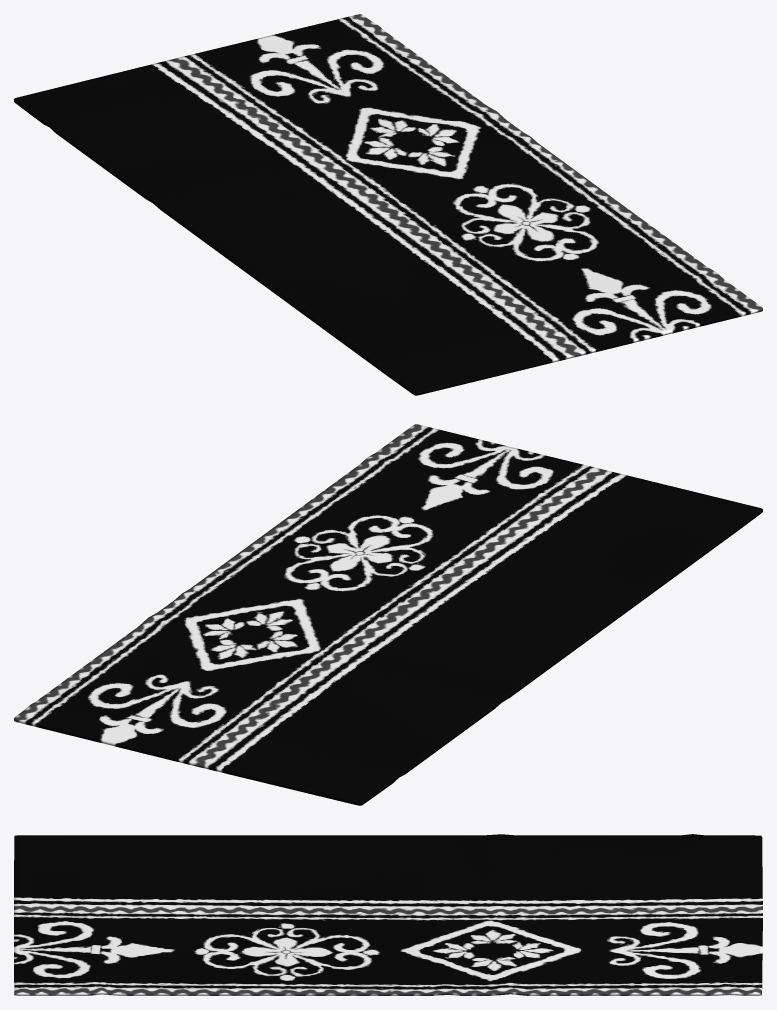
File: SM_Carpet_A.fbx
3 renders of one model, top to bottom at view 1: azimuth 30°, elevation 25°; view 2: azimuth 150°, elevation 25°; view 3: azimuth 270°, elevation 25°, orthographic. The views are drawn at different scales.
Visible parts, largest first — view 1: SM_Carpet_A_LOD0; view 2: SM_Carpet_A_LOD0; view 3: SM_Carpet_A_LOD0.
Boxes of the visible parts, left/top/right/bottom form: SM_Carpet_A_LOD0: left=14, top=14, right=762, bottom=395; SM_Carpet_A_LOD0: left=14, top=424, right=762, bottom=805; SM_Carpet_A_LOD0: left=14, top=834, right=762, bottom=995.
Size of the model in its own units: 250 by 500 by 3.04.
